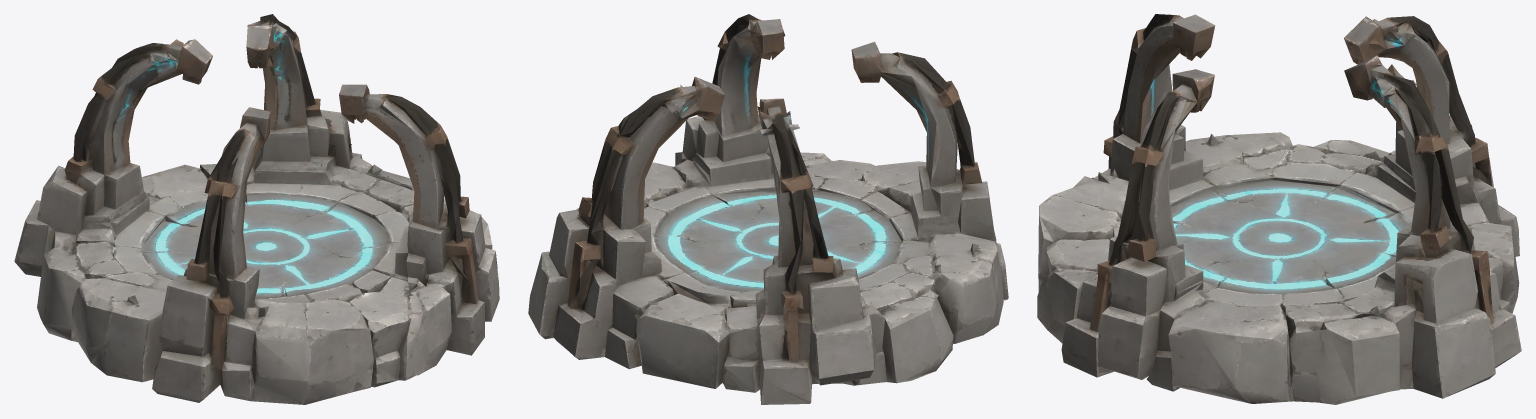
File: floor_receiver.glb
3 renders of one model, left to right at view 1: azimuth 30°, elevation 25°; view 2: azimuth 150°, elevation 25°; view 3: azimuth 270°, elevation 25°, orthographic. The views are drawn at different scales.
Parts seen in each view (by area): view 1: body; view 2: body; view 3: body.
Part boxes in pixels (<box>): body: <box>14,14,499,404</box>; body: <box>528,14,1008,404</box>; body: <box>1037,14,1521,404</box>.
Size of the model in its own units: 2.2 by 1.31 by 2.14.
Materials: 1 (1 with a texture image).
